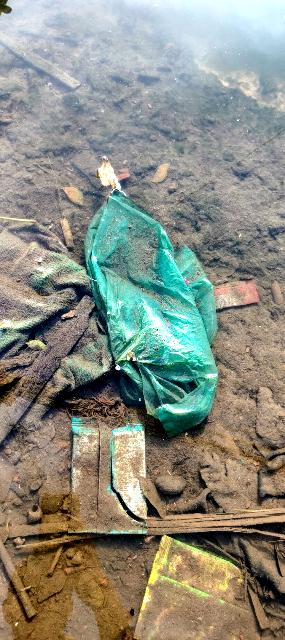polythene: (69, 185, 255, 439)
